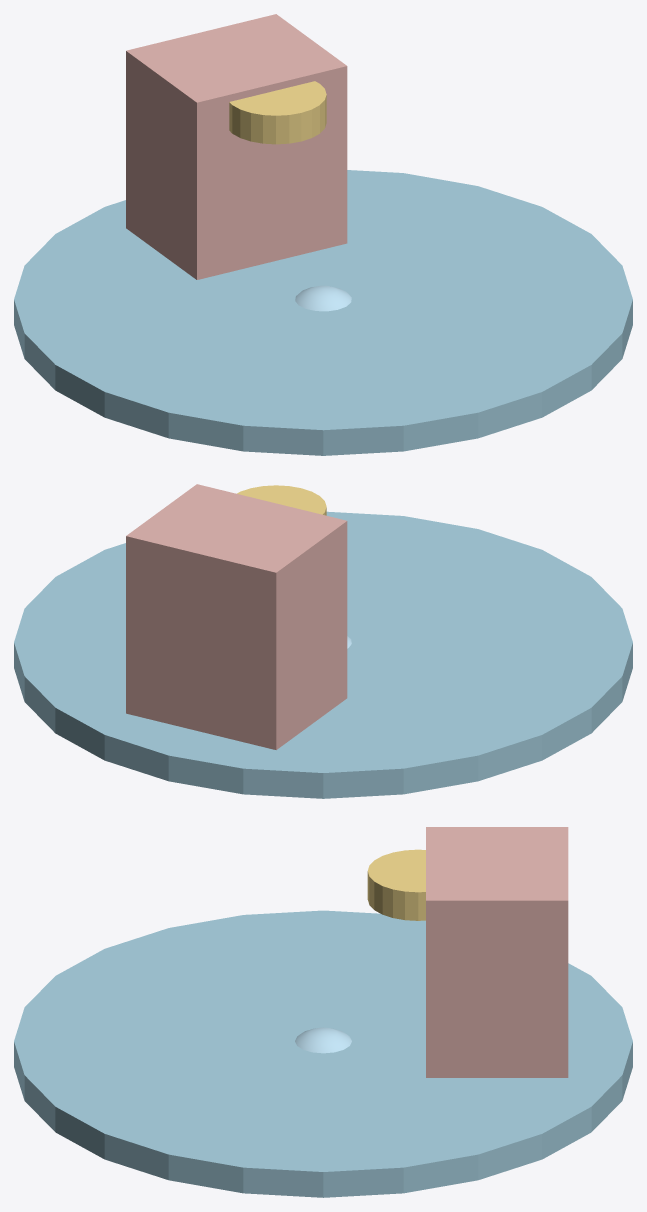
File: bubbles.glb
3 views of the same model, one above another, from view 1: azimuth 30°, elevation 25°; view 2: azimuth 150°, elevation 25°; view 3: azimuth 270°, elevation 25° (orthographic).
Parts seen in each view (by area): view 1: bubble mat, bubble machine, bubble nozzle, soap bubble.001, soap bubble.002; view 2: bubble mat, bubble machine, bubble nozzle; view 3: bubble mat, bubble machine, bubble nozzle, soap bubble.001, soap bubble.002.
Part boxes in pixels (box(x1,y1,x2,y2)): bubble mat: box(14, 170, 632, 455); bubble machine: box(126, 14, 347, 279); bubble nozzle: box(229, 81, 326, 144); soap bubble.001: box(295, 286, 351, 310); soap bubble.002: box(296, 286, 350, 310); bubble mat: box(14, 511, 632, 798); bubble machine: box(126, 484, 347, 749); bubble nozzle: box(237, 485, 326, 515); bubble mat: box(14, 910, 632, 1197); bubble machine: box(426, 827, 568, 1077); bubble nozzle: box(367, 849, 425, 920); soap bubble.001: box(295, 1027, 351, 1052); soap bubble.002: box(295, 1028, 351, 1052).
Bounding box in the file's own units: 1.96 × 0.865 × 1.96.
